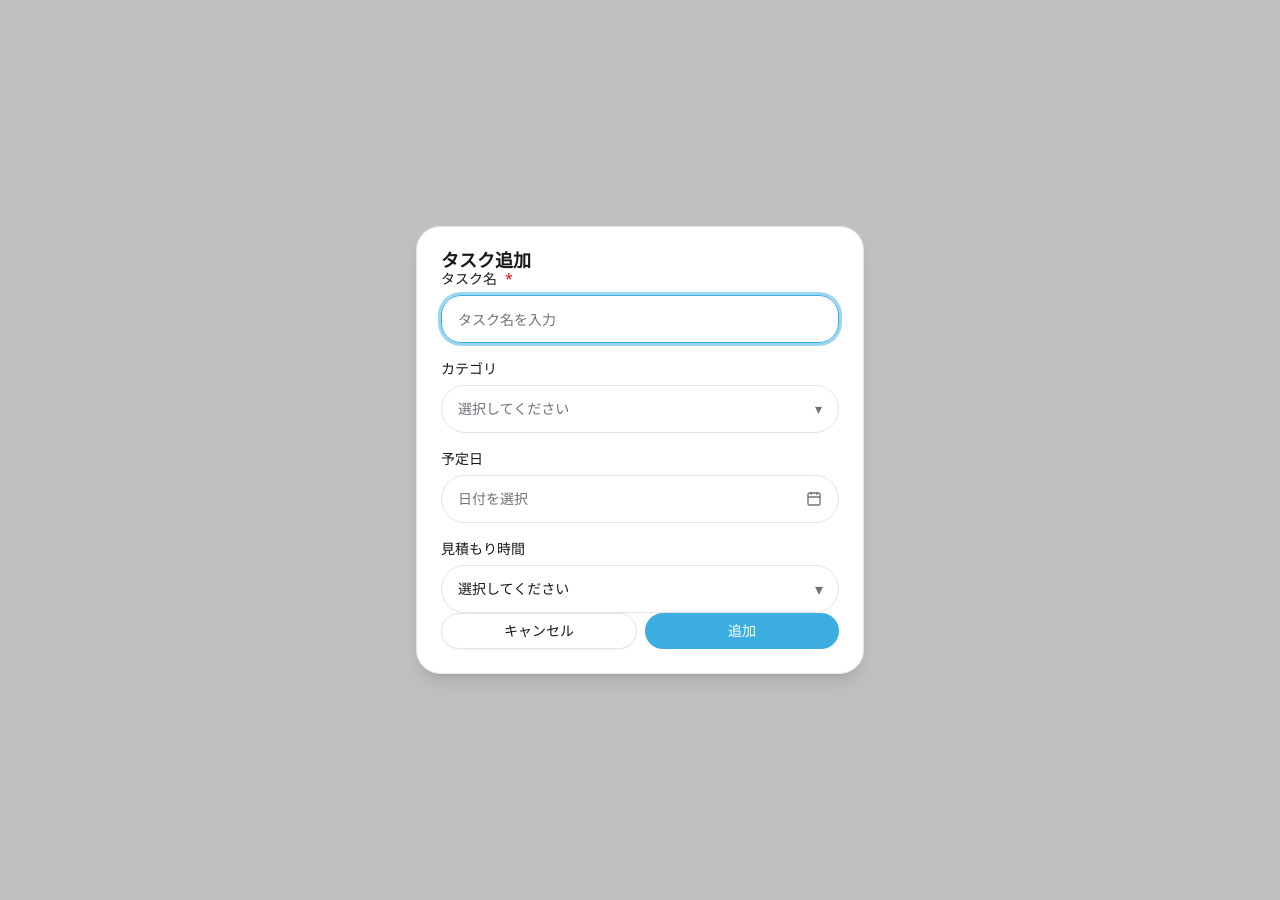
Scenario: AddTaskForm › API の field error を表示して閉じない
Type "記事を書く" into the field with placeholder "タスク名を入力" at (640, 319), box top-left (441, 295), bottom-right (839, 343)
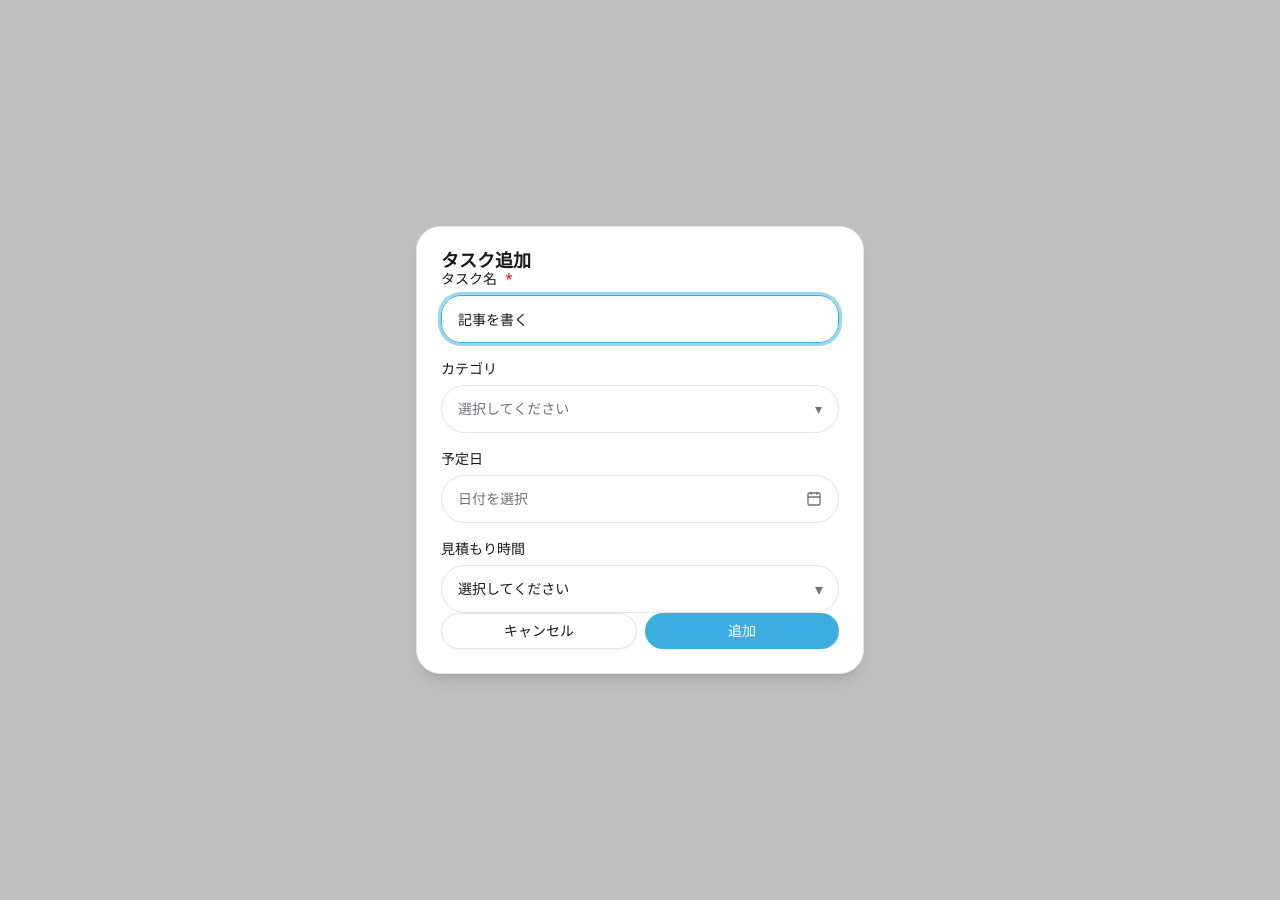
Click the button "追加" at (742, 631), box top-left (645, 613), bottom-right (839, 649)
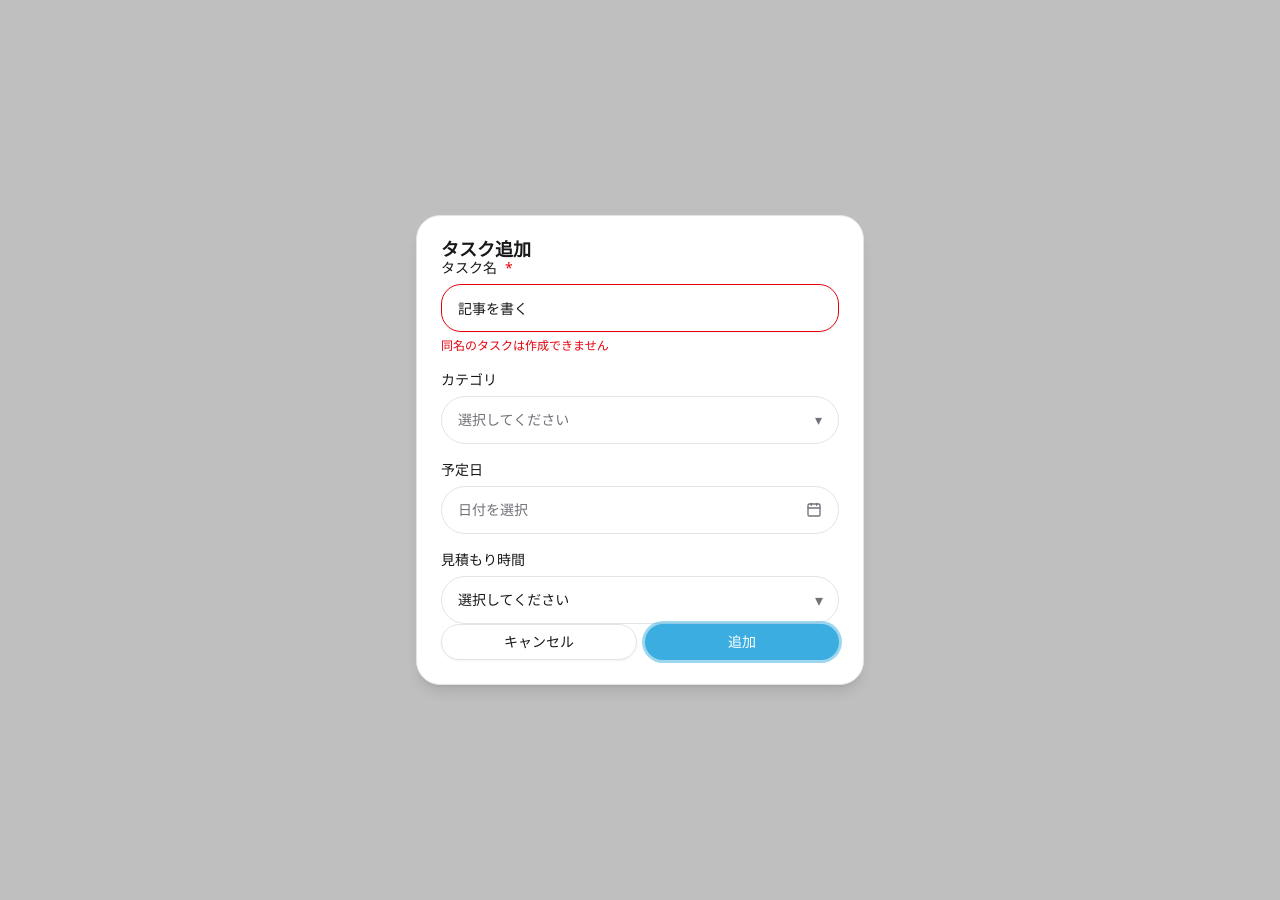
Check: the text "同名のタスクは作成できません" is shown, box top-left (441, 337), bottom-right (609, 354)
